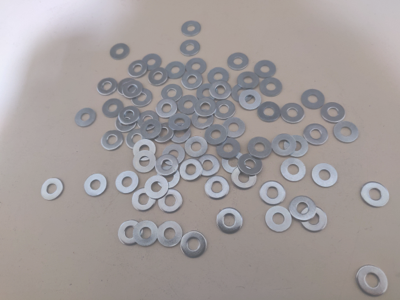circle: (357, 266, 389, 297), (180, 231, 208, 258), (361, 182, 390, 208), (300, 206, 327, 233), (266, 206, 292, 233), (216, 208, 243, 234), (289, 197, 316, 222), (118, 220, 143, 247), (260, 181, 286, 206), (158, 221, 183, 247), (312, 164, 338, 188), (134, 221, 158, 247), (281, 158, 306, 182), (232, 166, 257, 190), (205, 176, 230, 200), (158, 189, 183, 213), (145, 175, 169, 200), (132, 188, 156, 212), (272, 134, 297, 157), (303, 124, 329, 146), (222, 152, 246, 175), (115, 172, 139, 195), (238, 154, 263, 176), (156, 167, 181, 189), (41, 178, 64, 201), (84, 174, 107, 197), (198, 154, 221, 177), (180, 158, 203, 181), (334, 121, 358, 143), (248, 137, 273, 158), (205, 124, 228, 146), (156, 154, 179, 176), (133, 151, 156, 173), (133, 139, 156, 161), (284, 136, 308, 157), (301, 89, 325, 110), (258, 102, 281, 123), (223, 118, 246, 139), (217, 138, 240, 159), (185, 137, 208, 158), (162, 145, 185, 166), (321, 103, 345, 123), (192, 109, 214, 130), (170, 123, 192, 144), (140, 119, 162, 140), (281, 104, 304, 124), (101, 131, 124, 151), (239, 90, 262, 110), (260, 77, 282, 97), (153, 123, 175, 143), (156, 99, 179, 118), (178, 95, 199, 115), (127, 129, 147, 150), (254, 60, 276, 79), (210, 81, 232, 100), (232, 84, 254, 103), (75, 108, 97, 127), (195, 98, 217, 117), (197, 83, 217, 103), (103, 99, 124, 118), (182, 71, 203, 90), (208, 68, 229, 87), (132, 89, 153, 108), (214, 100, 235, 119), (138, 111, 159, 130), (119, 106, 140, 125), (116, 113, 137, 132), (168, 114, 191, 131), (128, 60, 148, 79), (162, 84, 182, 103), (238, 72, 259, 90), (97, 78, 118, 96), (141, 54, 162, 72), (228, 53, 249, 70), (165, 62, 185, 79), (186, 59, 207, 75), (181, 40, 201, 56), (110, 44, 130, 60), (182, 21, 202, 36)
